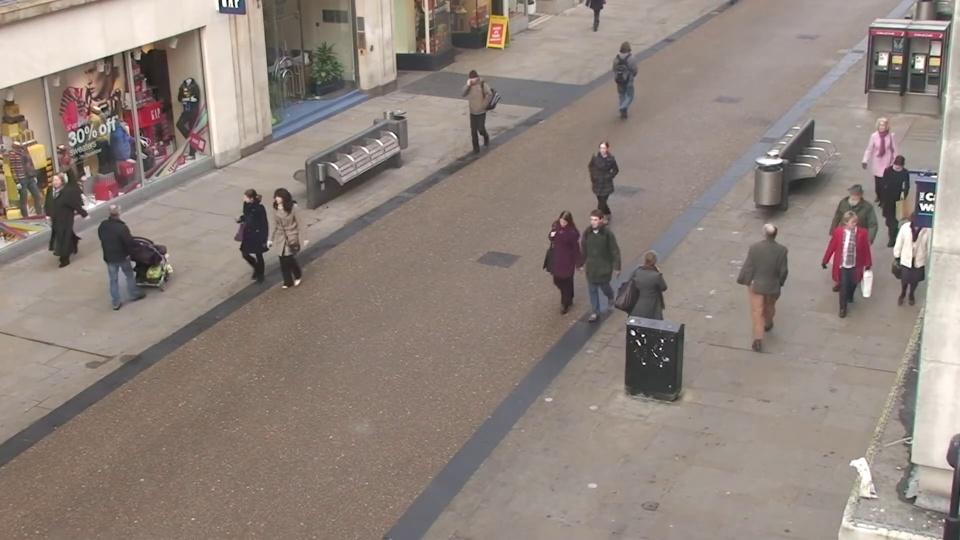pedestrian: (818, 212, 865, 334), (30, 172, 83, 280), (632, 243, 675, 373), (104, 195, 153, 309), (749, 211, 792, 333), (821, 183, 866, 298), (868, 155, 914, 264), (225, 188, 269, 301), (258, 188, 301, 301), (539, 212, 577, 335), (573, 208, 611, 329), (858, 118, 900, 217), (584, 137, 617, 240), (456, 70, 485, 153), (616, 37, 641, 111)
